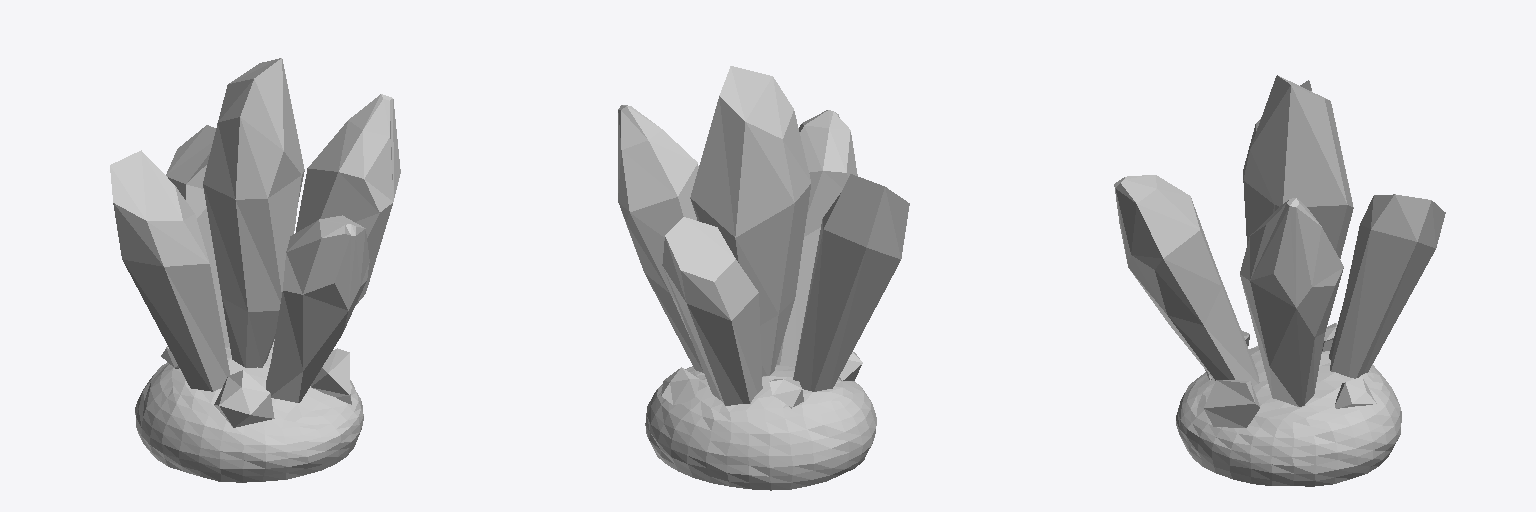
Rendered from Crystals_low_old.obj.
The picture shows the model from 3 angles: view 1: azimuth 30°, elevation 25°; view 2: azimuth 150°, elevation 25°; view 3: azimuth 270°, elevation 25°; orthographic projection.
Parts seen in each view (by area): view 1: Cylinder; view 2: Cylinder; view 3: Cylinder.
Part boxes in pixels (bbox=[...]): Cylinder: bbox=[110, 58, 400, 482]; Cylinder: bbox=[618, 66, 909, 490]; Cylinder: bbox=[1114, 75, 1445, 486].
Size of the model in its own units: 0.7937 by 0.9941 by 0.8012.